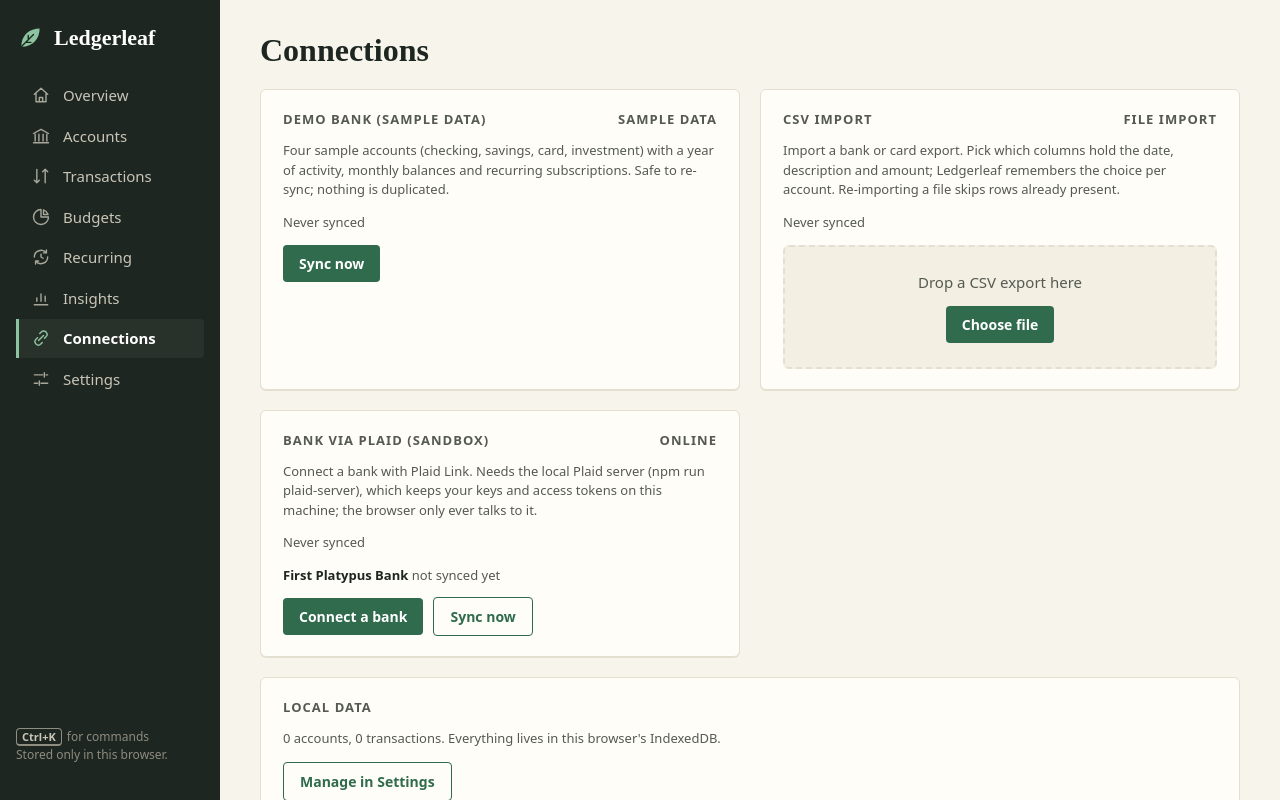
Plaid connection card › shows a sync error on the card and keeps the ledger unchanged
Click the button "Sync now" below "First Platypus Bank". click: (483, 616)
box: [434,597,533,636]
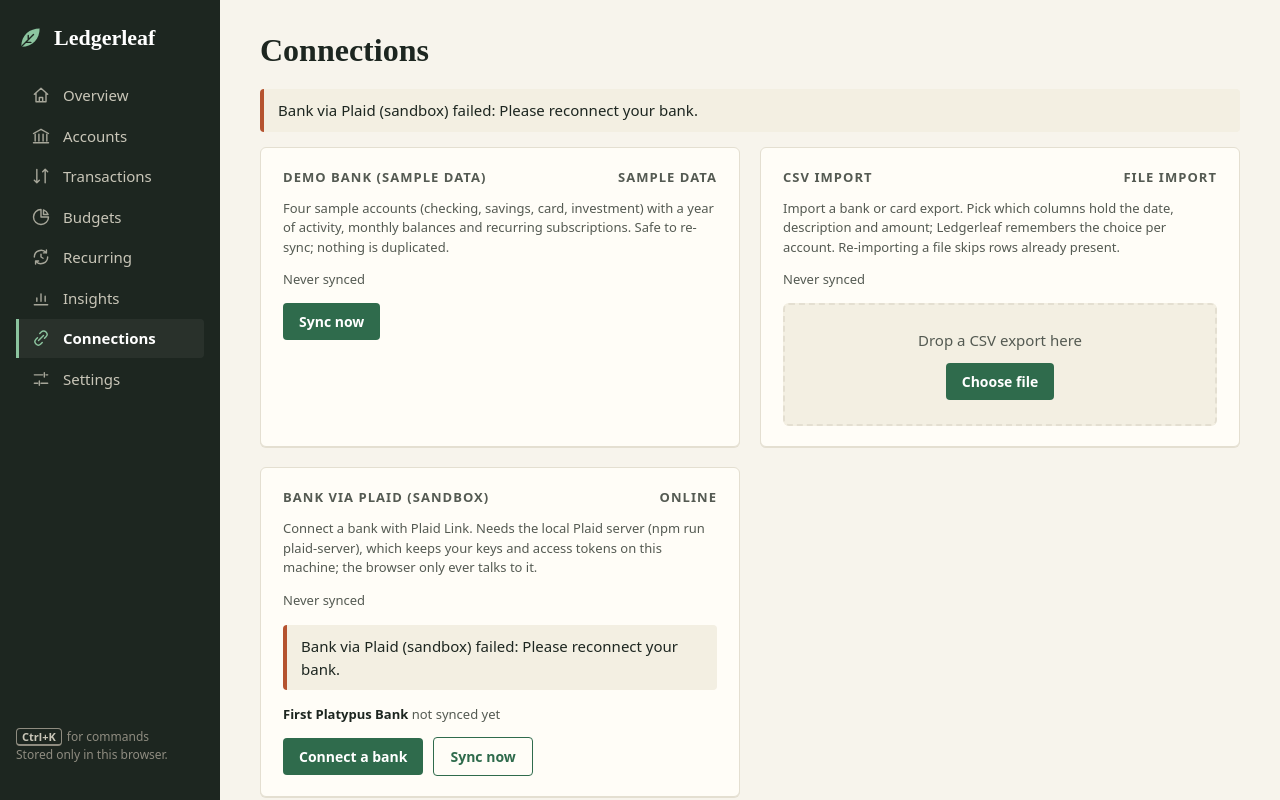
Check: the message "Bank via Plaid (sandbox) failed: Please reconnect your bank." below "Online" is shown, box [301,636,678,678]
